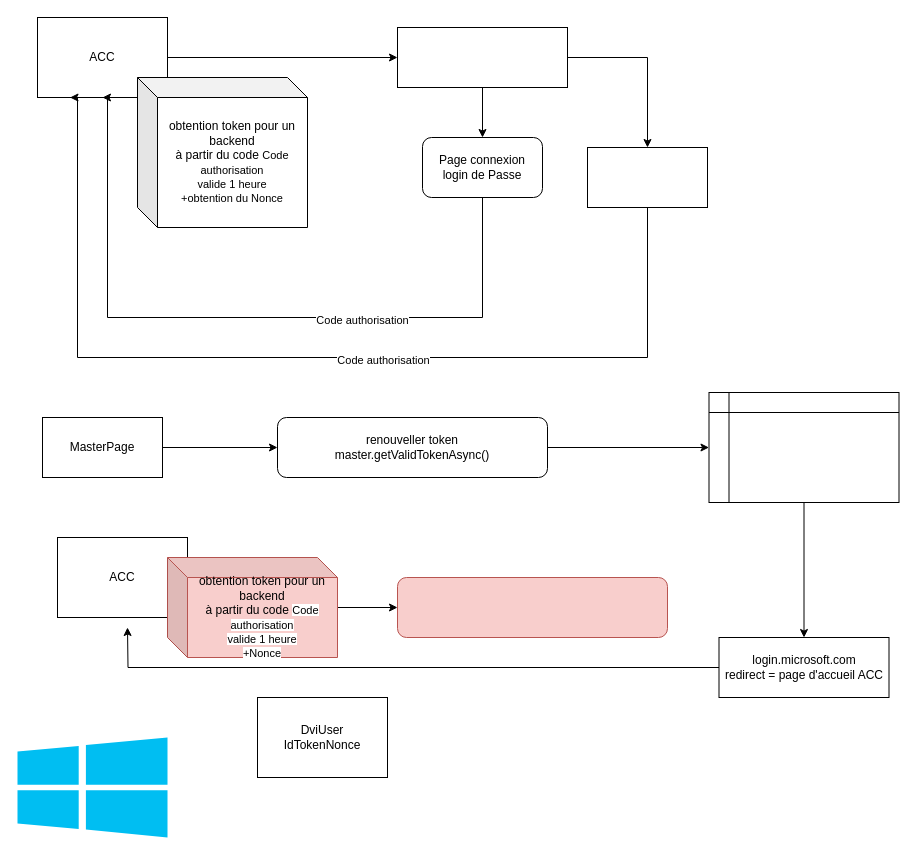
This 916x855 diagram has some shape labels left out. The shapes that lost their labels are listed below. From the top down, each one's box as (x1, y1, x2, y2) in pixels, then its label:
(396, 26, 568, 88): login.microsoft.com
(586, 146, 708, 208): Nonce
(708, 392, 899, 502): iframe ( 1px )
(396, 576, 668, 638): token renouvellé
